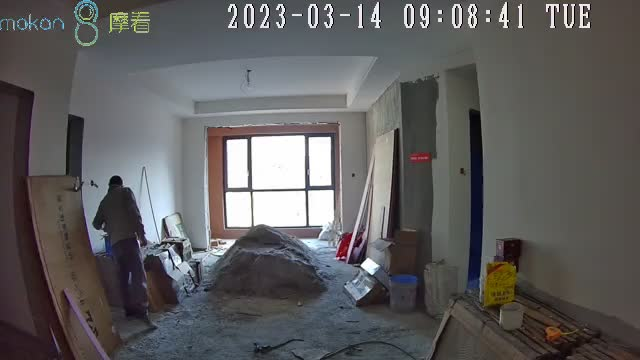people: (91, 176, 156, 326)
window: (223, 134, 337, 229)
